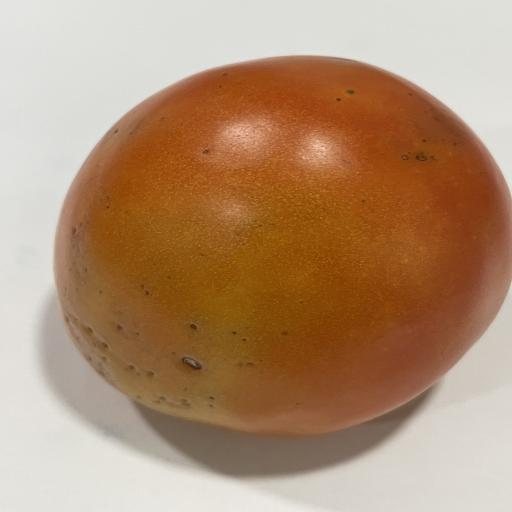overipe: (55, 56, 512, 435)
